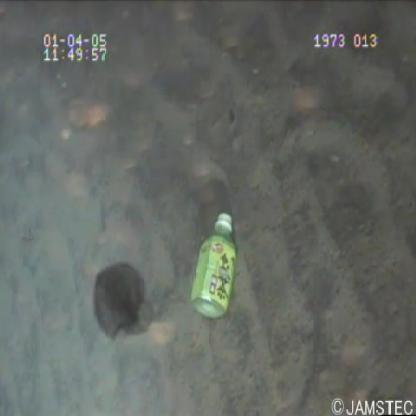Rác: (186, 208, 245, 324)
